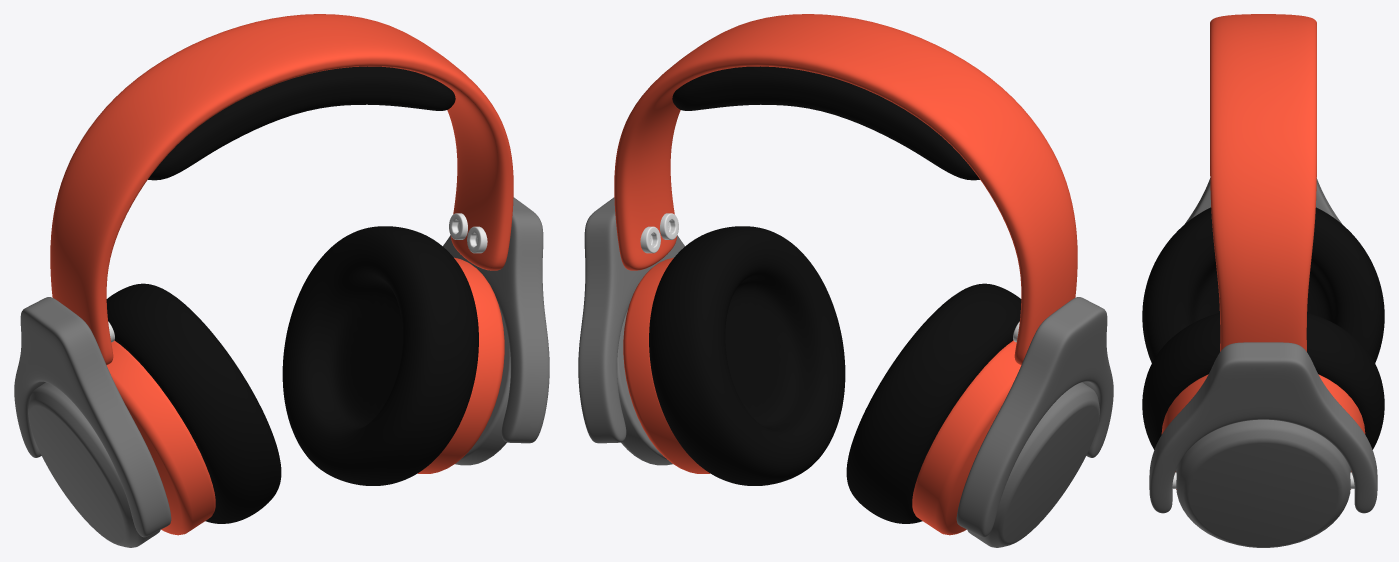
Rendered from aural-forge-headphone.glb.
The picture shows the model from 3 angles, left to right: view 1: azimuth 30°, elevation 25°; view 2: azimuth 150°, elevation 25°; view 3: azimuth 270°, elevation 25°; orthographic projection. The views are drawn at different scales.
Visible parts, largest first — view 1: Ear Pad, Headband, Hanger, Base, Cover, Headband Pad, Bolt; view 2: Ear Pad, Headband, Hanger, Base, Cover, Headband Pad, Bolt; view 3: Headband, Ear Pad, Cover, Hanger, Base.
Part boxes in pixels (x1=…): Ear Pad: x1=106, y1=226, x2=478, y2=523; Headband: x1=50, y1=14, x2=513, y2=364; Hanger: x1=14, y1=197, x2=549, y2=537; Base: x1=106, y1=257, x2=504, y2=535; Cover: x1=28, y1=308, x2=510, y2=547; Headband Pad: x1=148, y1=66, x2=455, y2=180; Bolt: x1=108, y1=213, x2=487, y2=342; Ear Pad: x1=649, y1=226, x2=1021, y2=523; Headband: x1=614, y1=14, x2=1077, y2=364; Hanger: x1=578, y1=197, x2=1113, y2=537; Base: x1=623, y1=257, x2=1021, y2=535; Cover: x1=617, y1=309, x2=1099, y2=547; Headband Pad: x1=672, y1=66, x2=979, y2=180; Bolt: x1=640, y1=213, x2=1019, y2=342; Headband: x1=1210, y1=14, x2=1316, y2=351; Ear Pad: x1=1142, y1=207, x2=1384, y2=449; Cover: x1=1176, y1=419, x2=1350, y2=547; Hanger: x1=1149, y1=178, x2=1377, y2=513; Base: x1=1161, y1=374, x2=1365, y2=489.
Bounding box in the file's own units: 1.95 × 1.79 × 0.9143.
